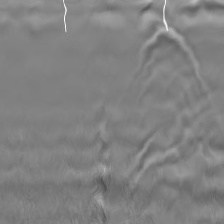Utility: (138, 24, 203, 79)
